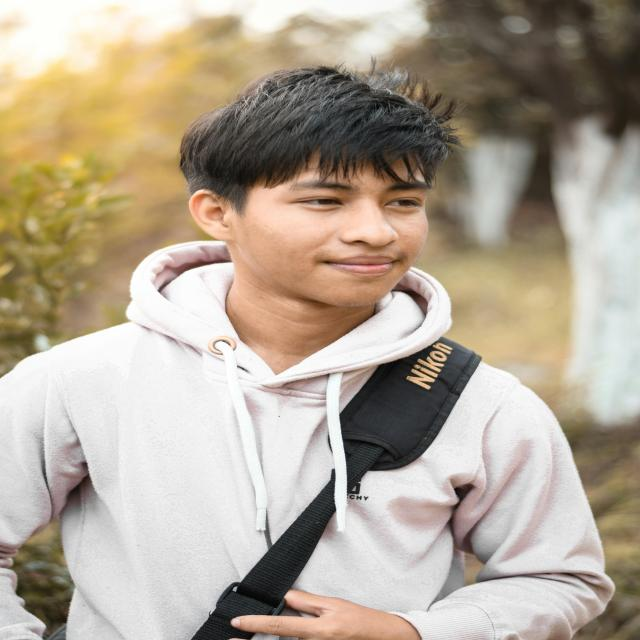human: (5, 63, 619, 640)
